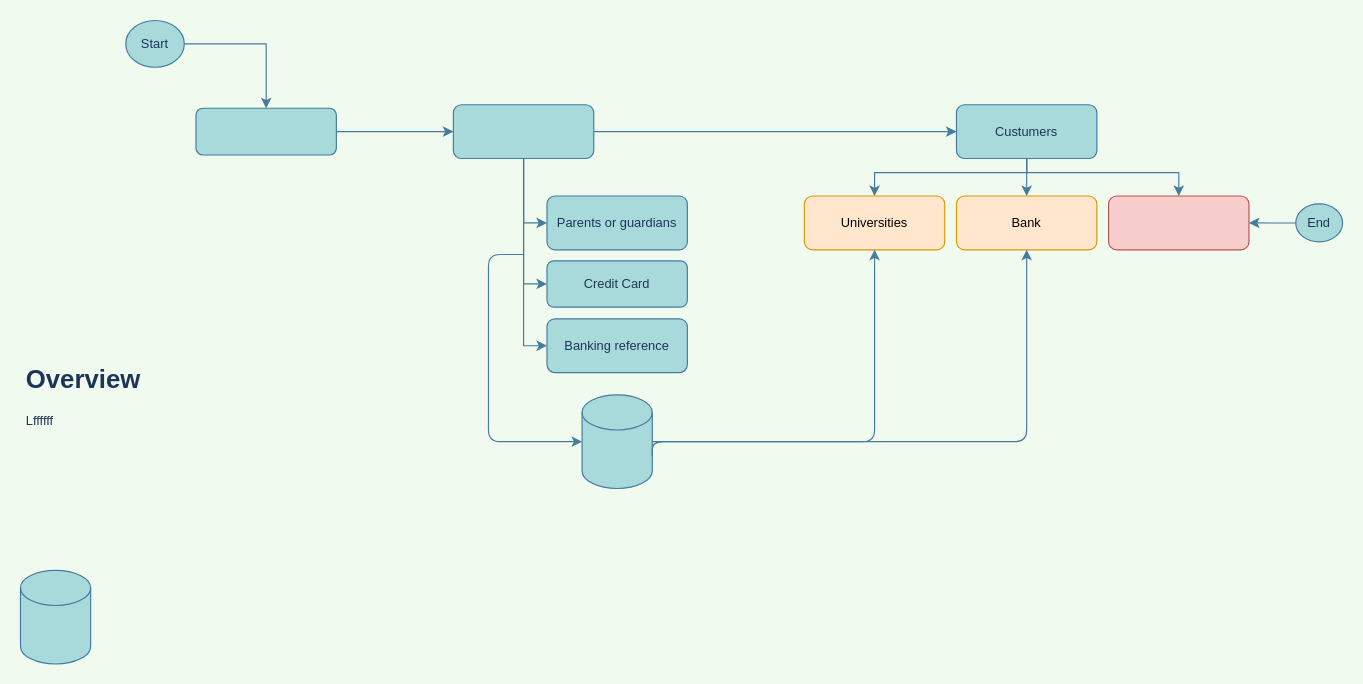
Some shapes in this 1363 by 684 pixel diagram are drawn without their labels. The box of each missing label's shape, as (x1, y1, x2, y2) in pixels:
Hearth plan and others services to ofter services: (1107, 195, 1249, 250)
MY Sql Database: (581, 394, 652, 488)
Student Registration: (452, 104, 594, 159)
Webiste Home: (195, 107, 336, 155)
